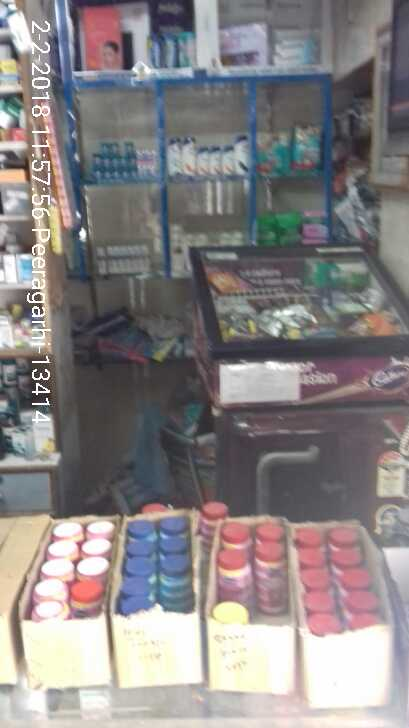vicks: (90, 141, 161, 187)
